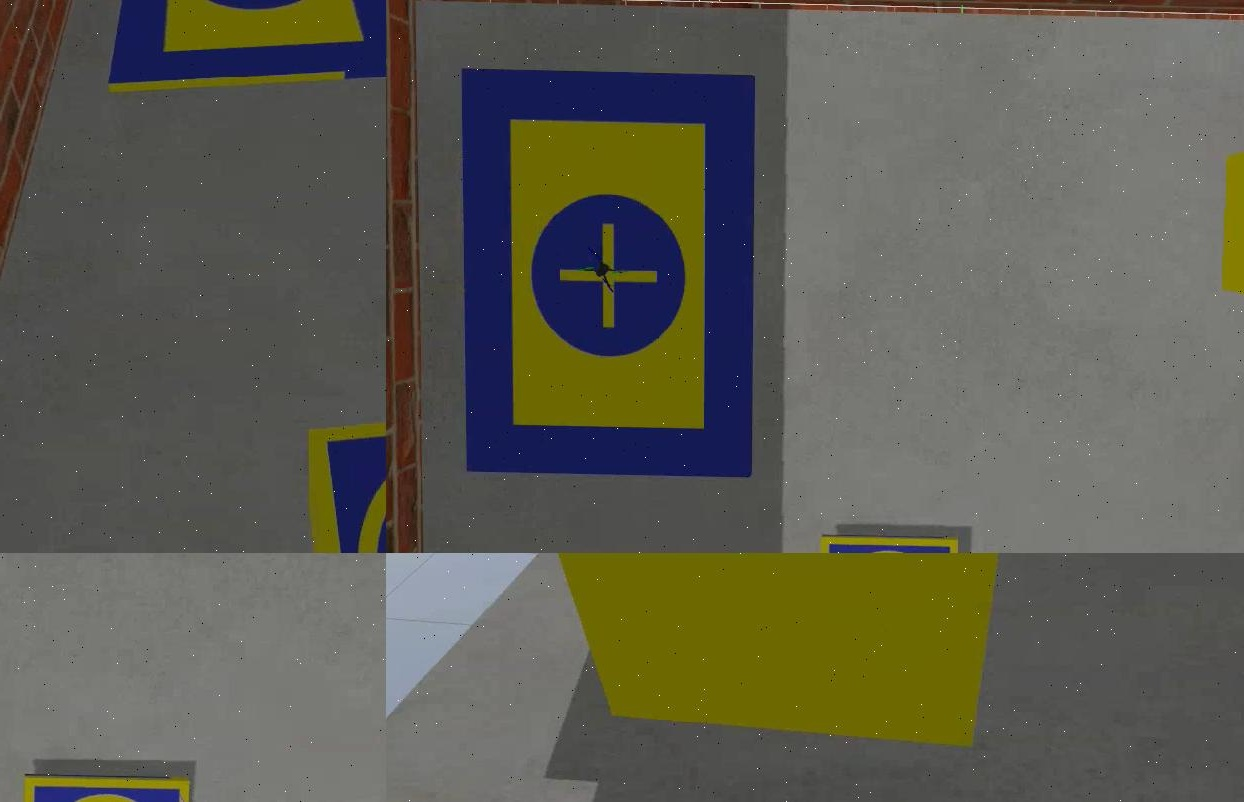large_base: (458, 67, 751, 481), (108, 1, 385, 91)
small_base: (19, 775, 190, 802)
